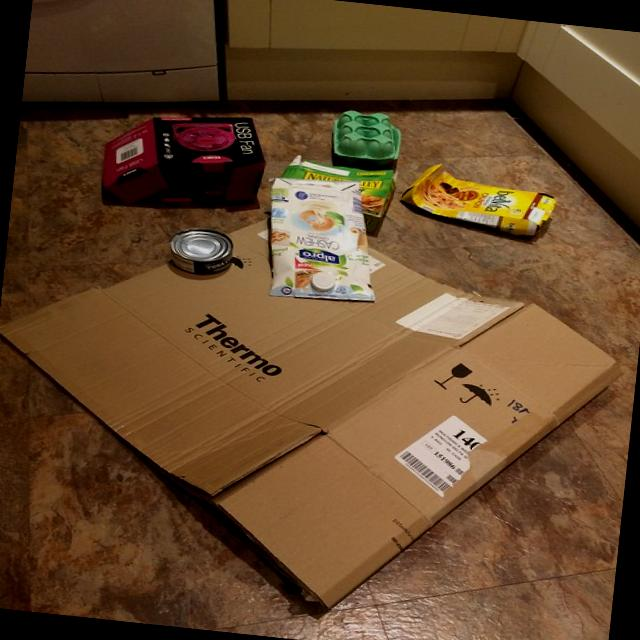Recycle: (166, 223, 236, 280)
Trash: (93, 102, 270, 218), (265, 157, 398, 305), (392, 156, 560, 242), (329, 109, 405, 170)
